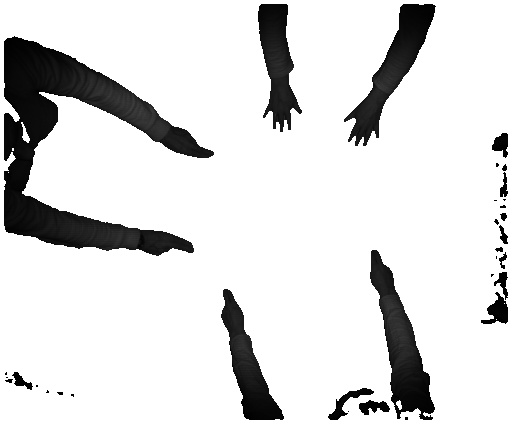hand: (344, 100, 391, 151), (256, 85, 303, 135), (142, 224, 199, 255), (216, 288, 255, 333), (165, 126, 215, 159), (368, 248, 399, 295)
